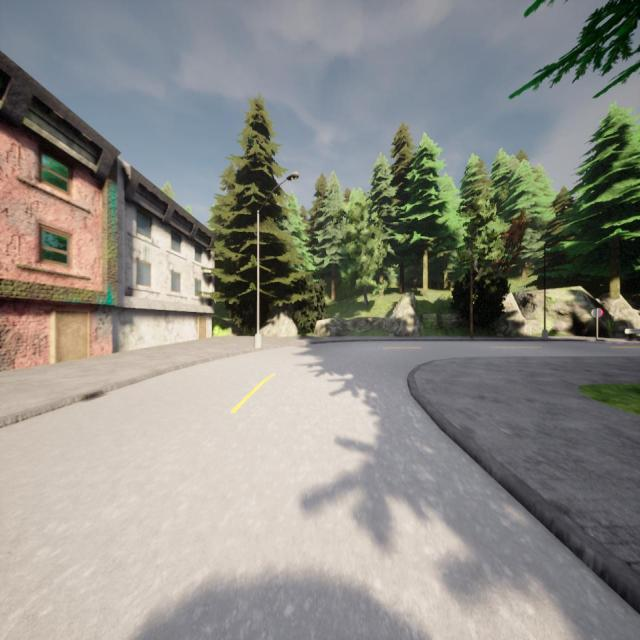Traffic_Signs: (591, 308, 604, 318)
